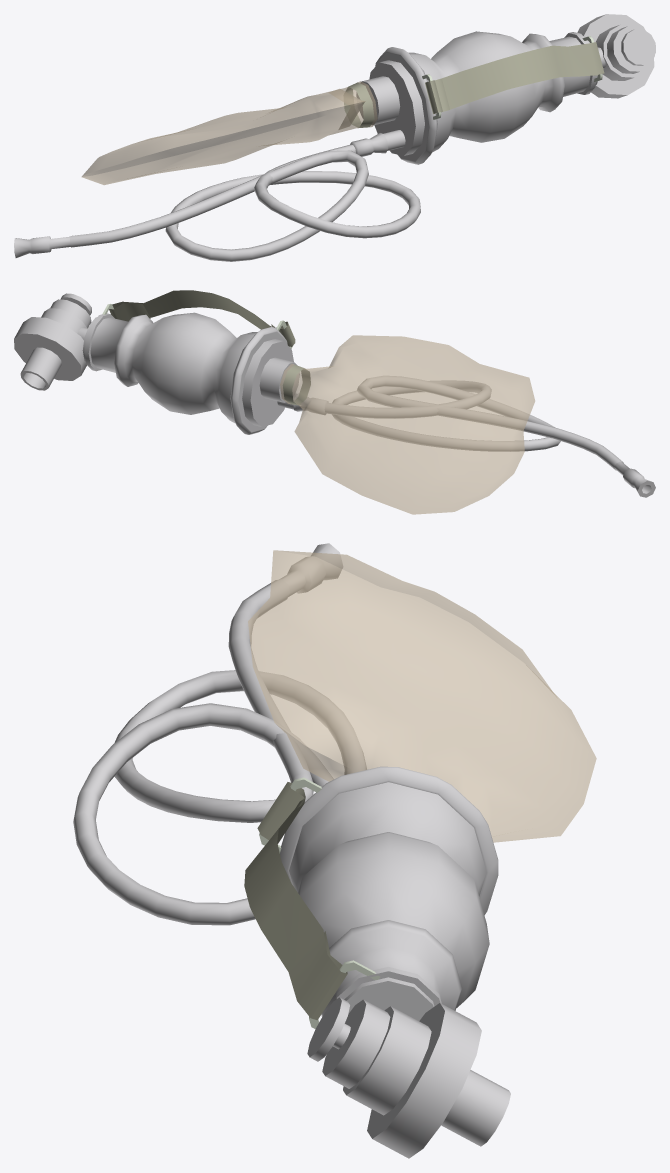
The model's file is BolsaAuto_A.fbx.
3 views of the same model, one above another, from view 1: azimuth 30°, elevation 25°; view 2: azimuth 150°, elevation 25°; view 3: azimuth 270°, elevation 25° (orthographic). The views are drawn at different scales.
Visible parts, largest first — view 1: BolsaAuto_A; view 2: BolsaAuto_A; view 3: BolsaAuto_A.
Boxes of the visible parts, x1=… form: BolsaAuto_A: x1=14, y1=14, x2=655, y2=261; BolsaAuto_A: x1=14, y1=290, x2=655, y2=514; BolsaAuto_A: x1=73, y1=543, x2=596, y2=1158.
Size of the model in its own units: 52.43 by 8.24 by 19.52.
